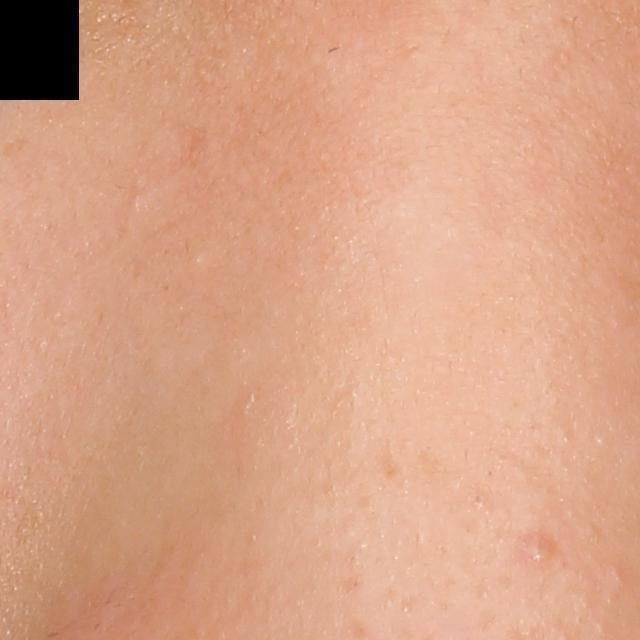papule: (519, 526, 559, 573)
